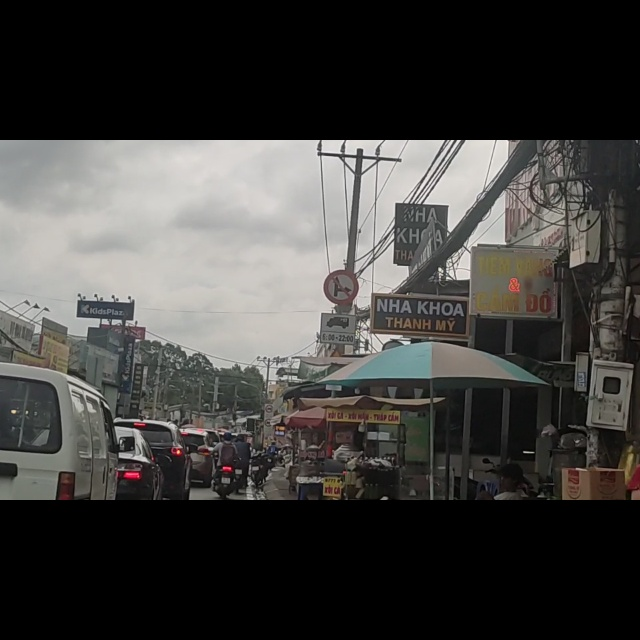bien_cam: (323, 231, 359, 294), (321, 306, 356, 363)
